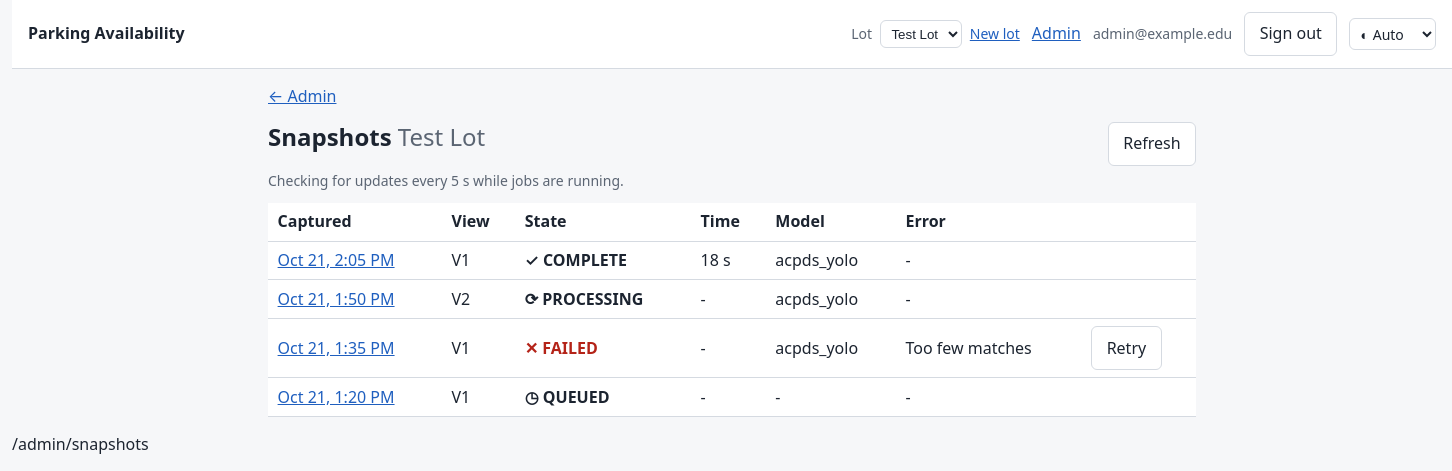
it: Snapshots page (US-06) › shows a refused retry inline on its row
The image size is (1452, 471).
Click the button "Retry".
click(1126, 348)  # box [1091, 326, 1162, 370]
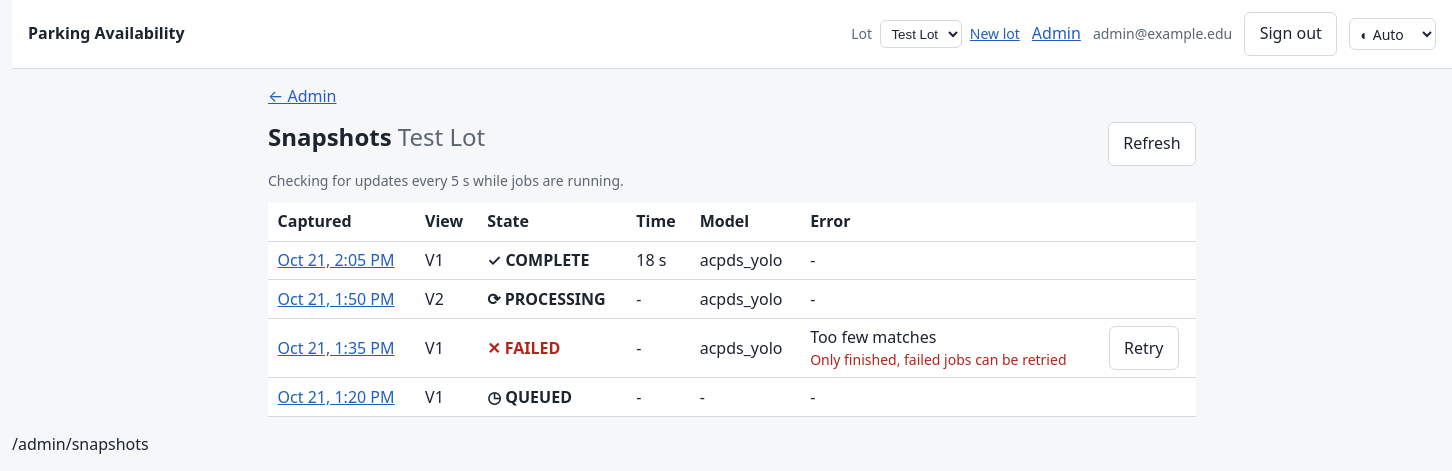
Check: the button "Retry" is enabled, box [1109, 326, 1179, 370]
Check: the message "Only finished, failed jobs can be retried" is shown, box [810, 350, 1089, 370]
